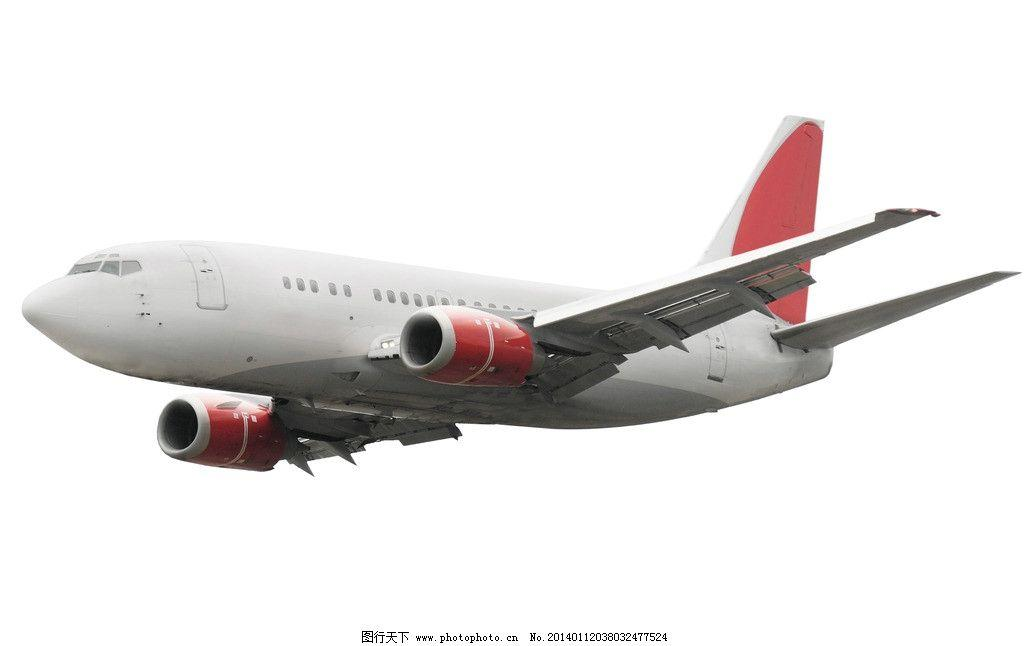airplane: (19, 116, 1015, 493)
